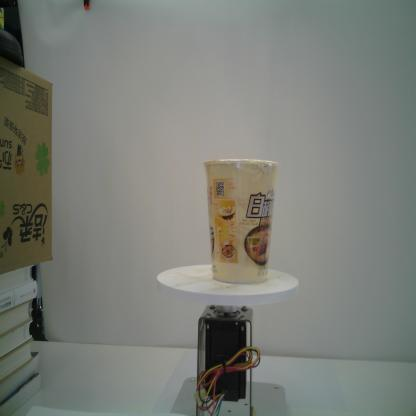Instant Noodles: (201, 156, 280, 286)
